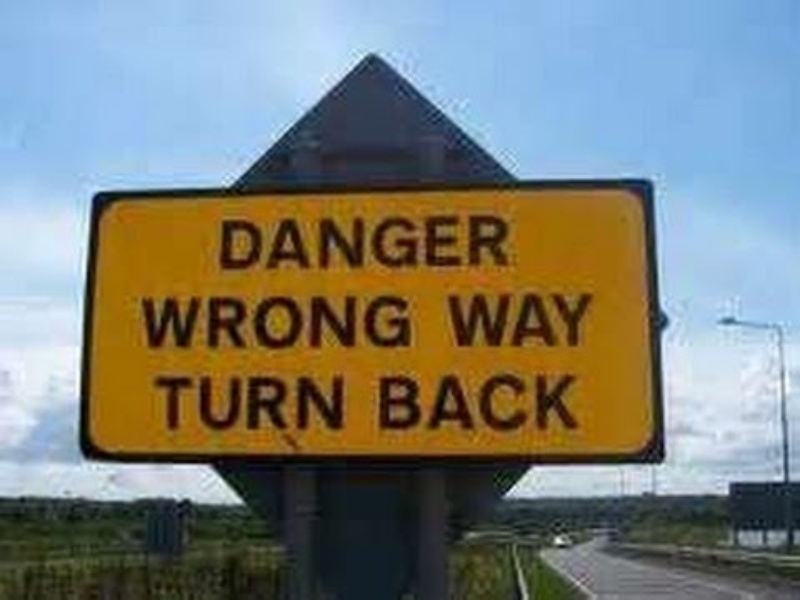text: (385, 372, 400, 432), (401, 372, 416, 432), (417, 372, 432, 432), (433, 372, 448, 432), (449, 372, 464, 432), (465, 372, 480, 432), (481, 372, 496, 432), (497, 372, 512, 432), (513, 372, 528, 432), (529, 372, 544, 432), (545, 372, 560, 432), (561, 372, 576, 432), (145, 292, 160, 351), (161, 292, 176, 351), (177, 292, 192, 351), (193, 292, 208, 351), (209, 292, 224, 351), (225, 292, 240, 351), (241, 292, 256, 351), (257, 292, 272, 351), (273, 292, 288, 351), (289, 292, 304, 351), (305, 292, 320, 351), (321, 292, 336, 351), (337, 292, 352, 351), (353, 292, 368, 351), (369, 292, 384, 351), (385, 292, 400, 351), (401, 292, 416, 351), (225, 214, 240, 272), (241, 214, 256, 272), (257, 214, 272, 272), (273, 214, 288, 272), (289, 214, 304, 272), (305, 214, 320, 272), (321, 214, 336, 272), (337, 214, 352, 272), (353, 214, 368, 272), (369, 214, 384, 272), (385, 214, 400, 272), (401, 214, 416, 272), (417, 214, 432, 272), (433, 214, 448, 272), (449, 214, 464, 272), (465, 214, 480, 272), (481, 214, 496, 272), (497, 214, 512, 272), (161, 374, 176, 432), (177, 374, 192, 432), (193, 374, 208, 432), (209, 374, 224, 432), (225, 374, 240, 432), (241, 374, 256, 432), (257, 374, 272, 432), (273, 374, 288, 432), (289, 374, 304, 432), (305, 374, 320, 432), (321, 374, 336, 432), (449, 292, 464, 349), (465, 292, 480, 349), (481, 292, 496, 349), (497, 292, 512, 349), (513, 292, 528, 349), (529, 292, 544, 349), (545, 292, 560, 349), (561, 292, 576, 349), (577, 292, 592, 349), (377, 372, 384, 432), (337, 374, 344, 432), (154, 374, 160, 432), (219, 214, 224, 272), (577, 372, 581, 432), (593, 292, 597, 349), (141, 292, 144, 351), (513, 214, 516, 272), (447, 292, 448, 349)
